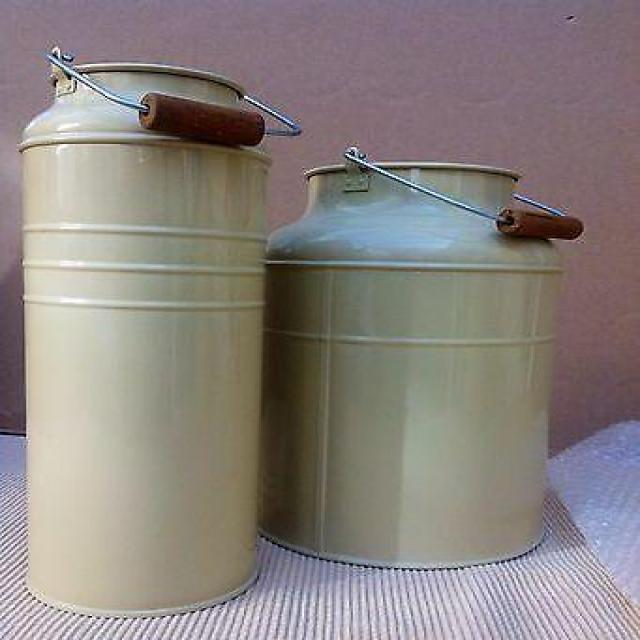metel: (14, 40, 290, 626), (247, 130, 579, 587)
